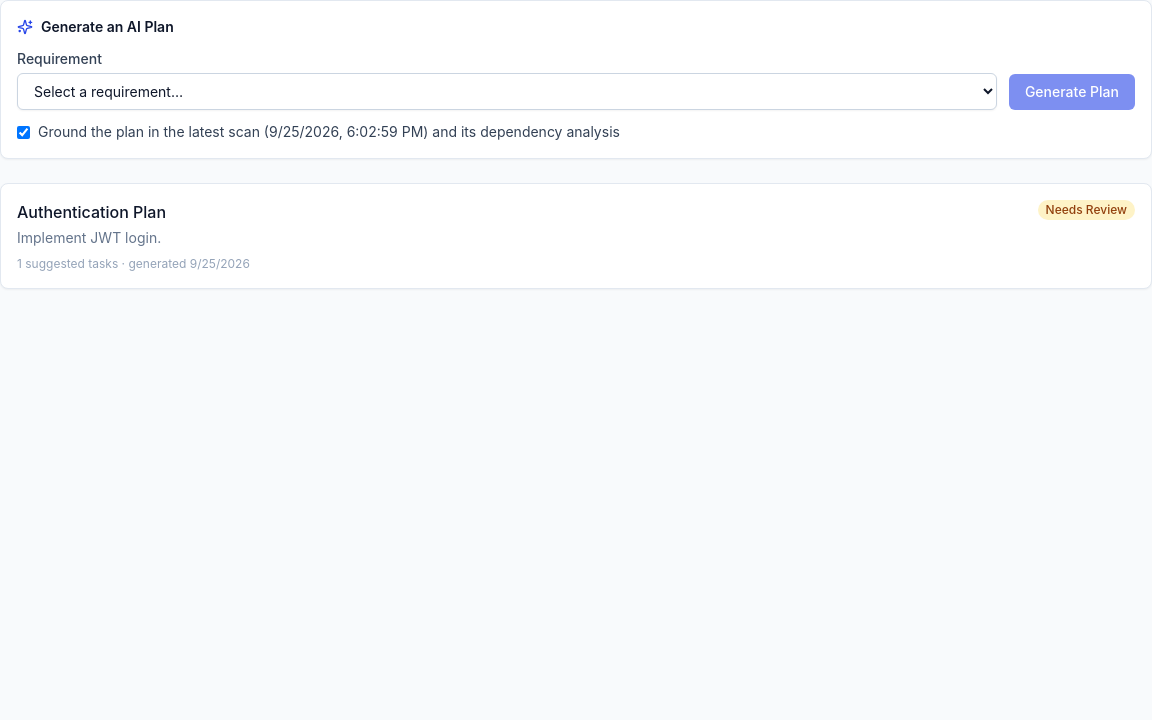
Test: ProjectPlansTab › shows scan grounding, rationale, and per-file evidence in the review dialog
Click the text "Authentication Plan".
click(92, 212)  # box [17,202,166,222]
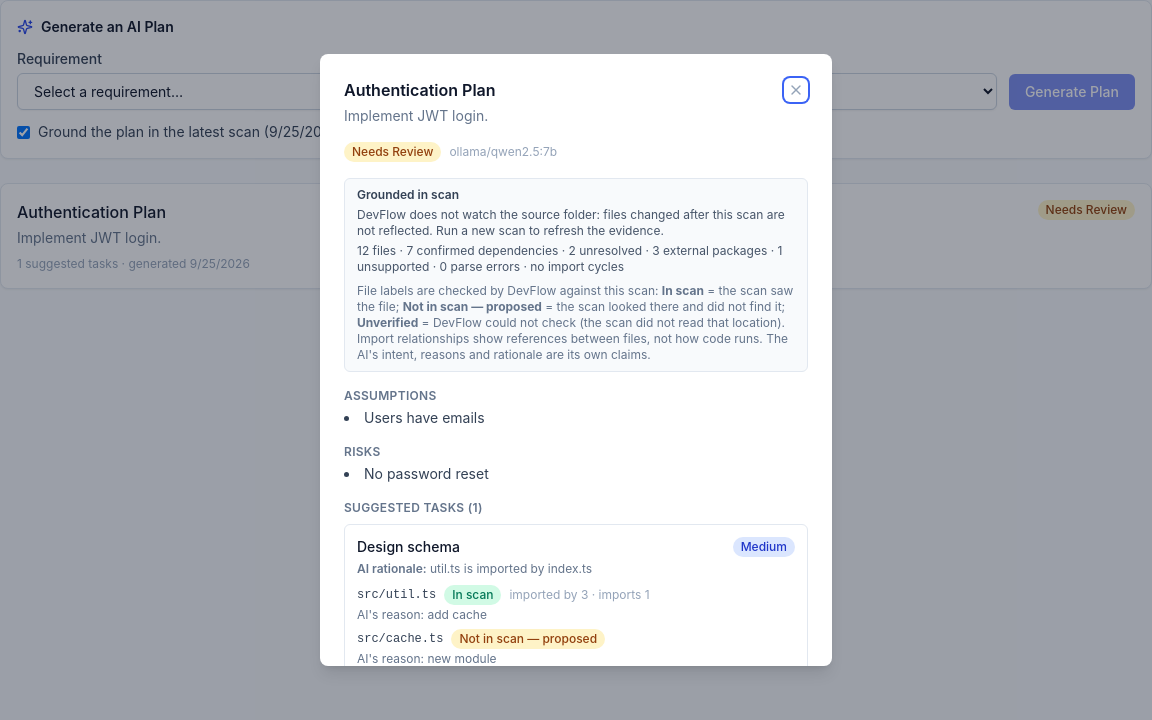
Expected: the text "12 files · 7 confirmed dependencies · 2 unresolved" is shown, [357,243,795,275]
Expected: the text "no import cycles" is shown, [530,259,624,274]
Expected: the text "AI rationale: util.ts is imported by index.ts" is shown, [357,561,592,576]
